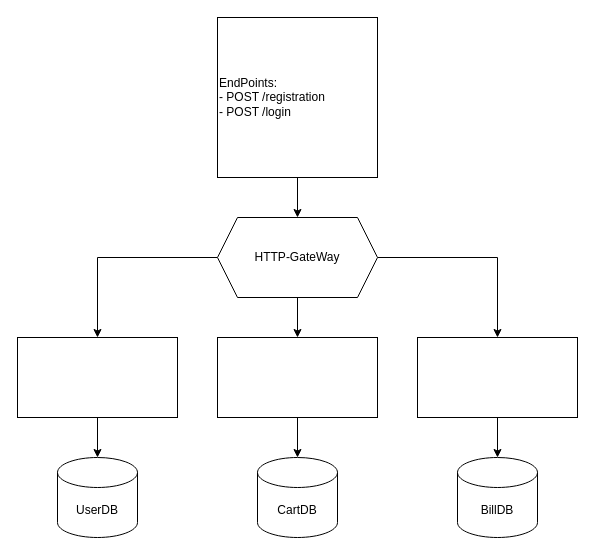
Image size: 595x555. Some labels were removed from this diagram. Each missing label, with the box of its shape:
Auth: (16, 336, 178, 418)
Billing: (416, 336, 578, 418)
CheckOut: (216, 336, 378, 418)
